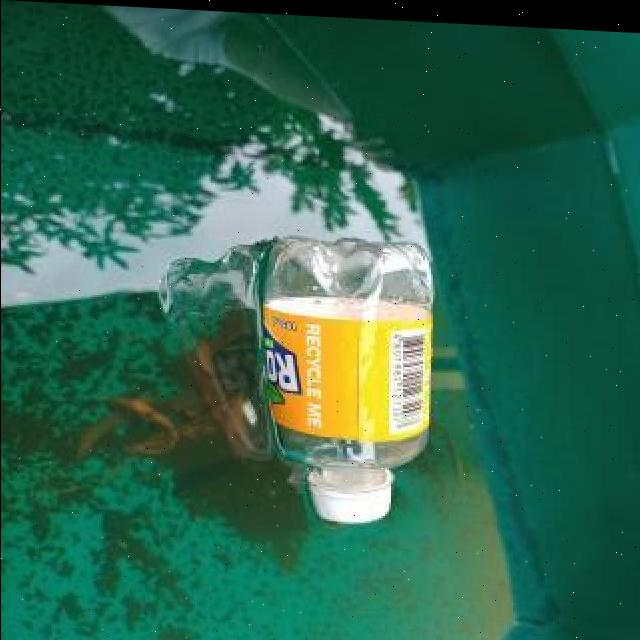bottle: (253, 228, 437, 526)
